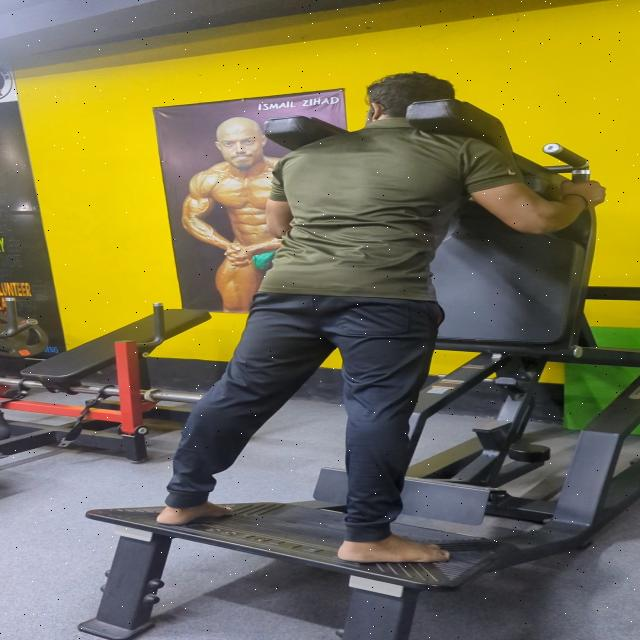Normal_SquatsWithBarbell: (99, 51, 640, 576)
